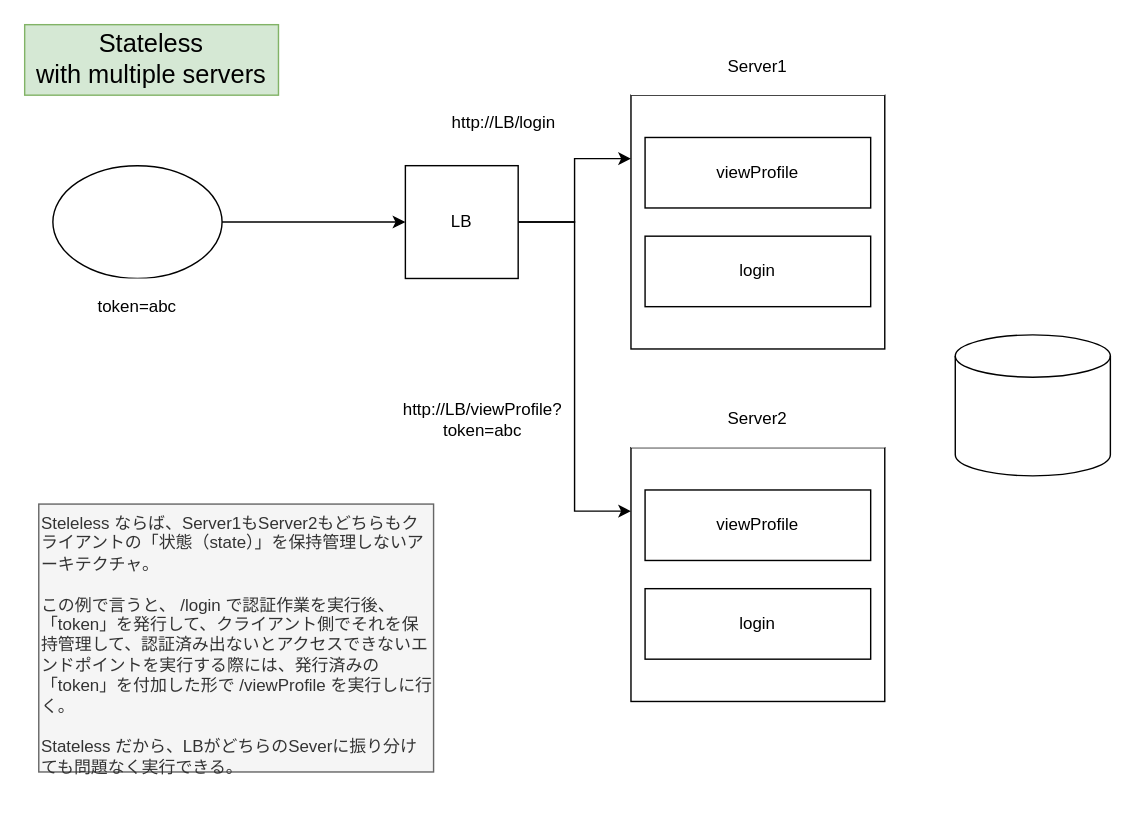
The diagram is 1135 pixels wide and 822 high, and some of its shapes have lost their labels. The centre of each missing label's shape, as x and y in pixels:
Bob: point 136,221
DB: point 1032,404
